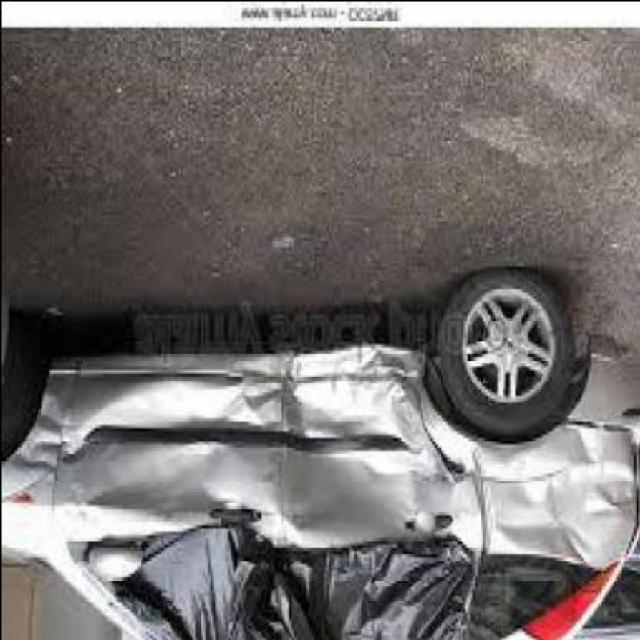damage: (4, 347, 632, 638)
